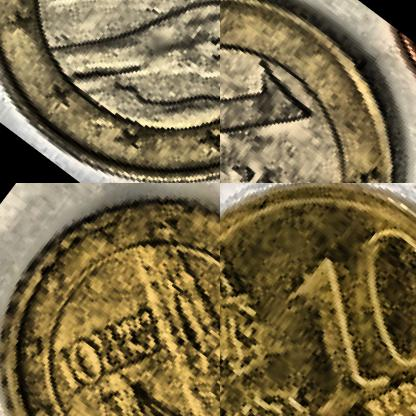coin: (0, 183, 219, 415), (220, 183, 415, 415), (0, 0, 219, 182), (220, 0, 415, 182)
